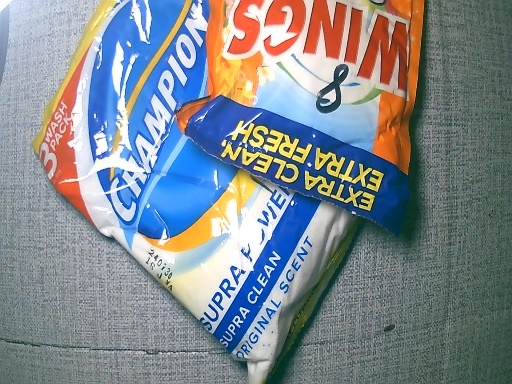plastic: (23, 1, 375, 384), (189, 2, 449, 242)
